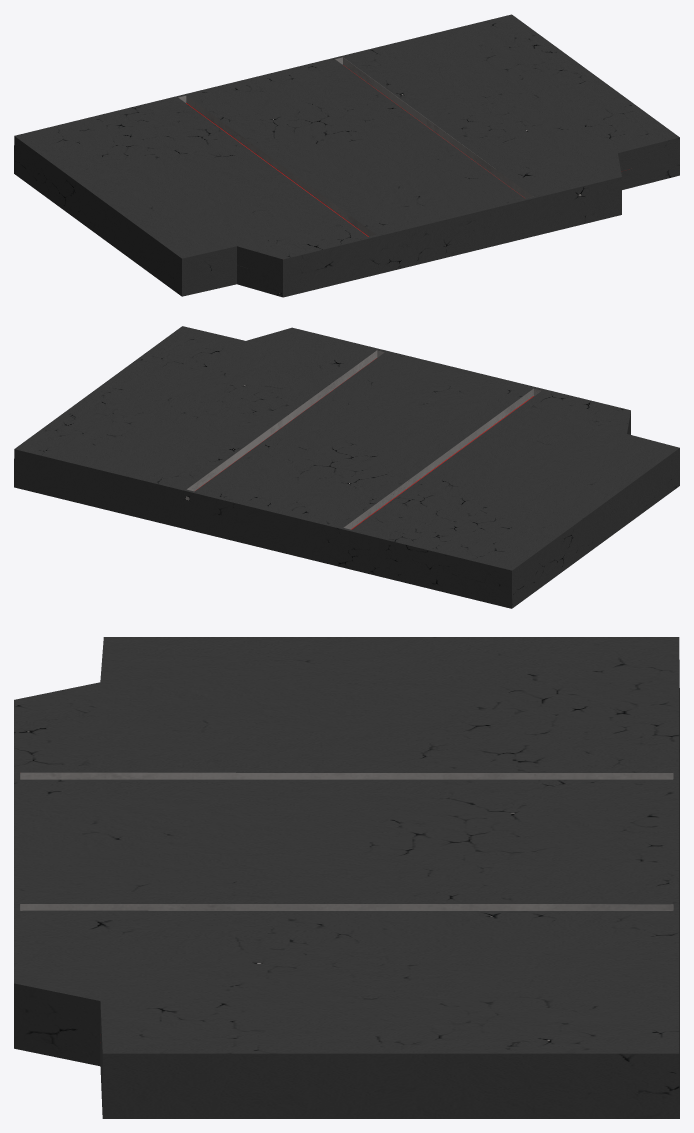
Rendered from DH_RightDoor.fbx.
3 renders of one model, top to bottom at view 1: azimuth 30°, elevation 25°; view 2: azimuth 150°, elevation 25°; view 3: azimuth 270°, elevation 25°, orthographic. The views are drawn at different scales.
Parts seen in each view (by area): view 1: MS_DropHatchLeft; view 2: MS_DropHatchLeft; view 3: MS_DropHatchLeft.
Part boxes in pixels (box(x1,y1,x2,y2)): MS_DropHatchLeft: box(14, 14, 679, 297); MS_DropHatchLeft: box(14, 326, 679, 608); MS_DropHatchLeft: box(14, 637, 679, 1118).
Size of the model in its own units: 103 by 7.53 by 69.65.
Materials: 1 (1 with a texture image).
